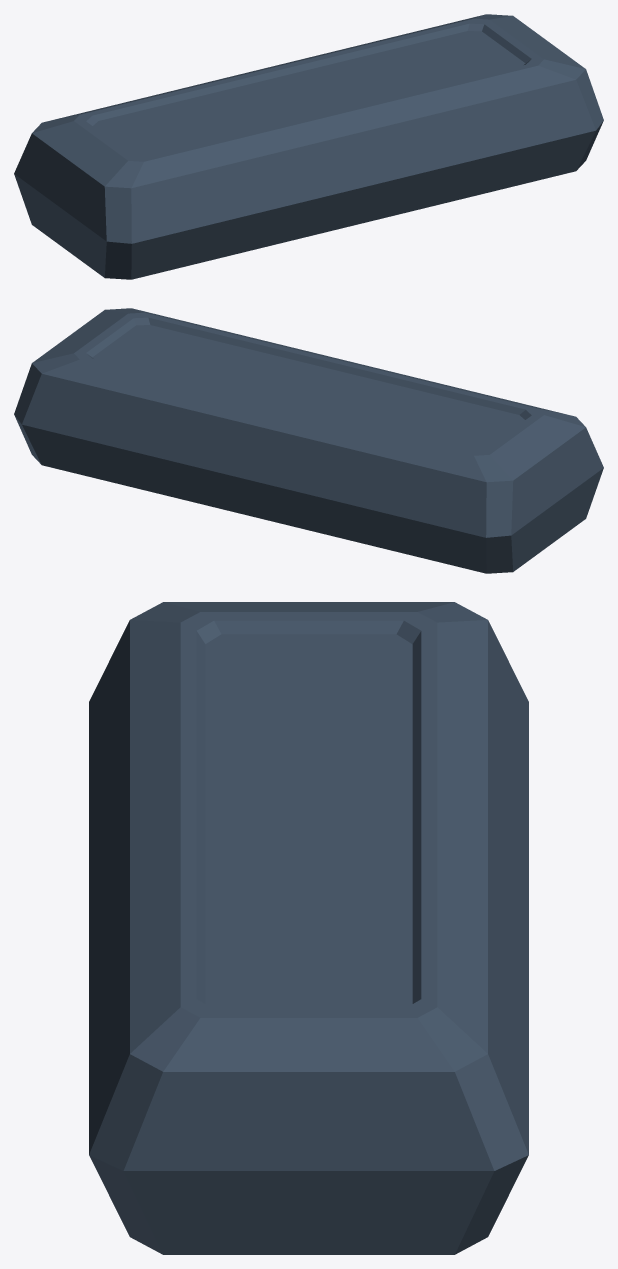
The model's file is IronIngotC.fbx.
3 views of the same model, one above another, from view 1: azimuth 30°, elevation 25°; view 2: azimuth 150°, elevation 25°; view 3: azimuth 270°, elevation 25° (orthographic). The views are drawn at different scales.
Visible parts, largest first — view 1: IronIngotC; view 2: IronIngotC; view 3: IronIngotC.
Boxes of the visible parts, x1=… form: IronIngotC: x1=14, y1=14, x2=603, y2=279; IronIngotC: x1=14, y1=308, x2=603, y2=573; IronIngotC: x1=89, y1=602, x2=528, y2=1254.
Bounding box in the file's own units: 62.93 × 13.73 × 24.11.
